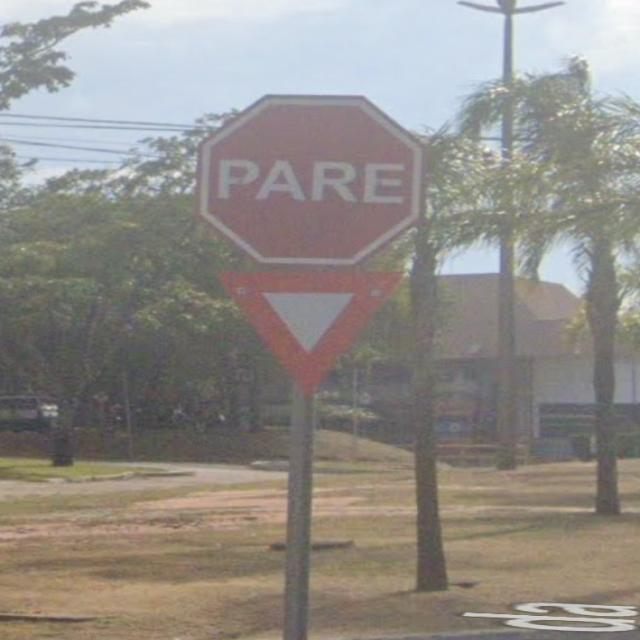stop: (154, 60, 452, 268)
